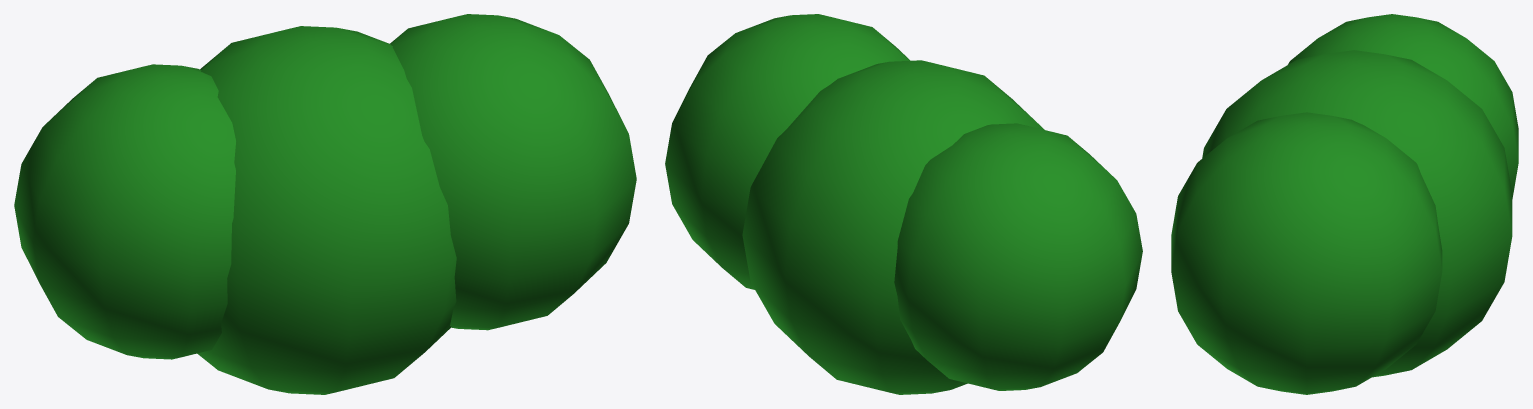
File: bush.glb
The picture shows the model from 3 angles, left to right: view 1: azimuth 30°, elevation 25°; view 2: azimuth 150°, elevation 25°; view 3: azimuth 270°, elevation 25°; orthographic projection. The views are drawn at different scales.
Bounding box in the file's own units: 1.16 × 0.7 × 0.7316.
